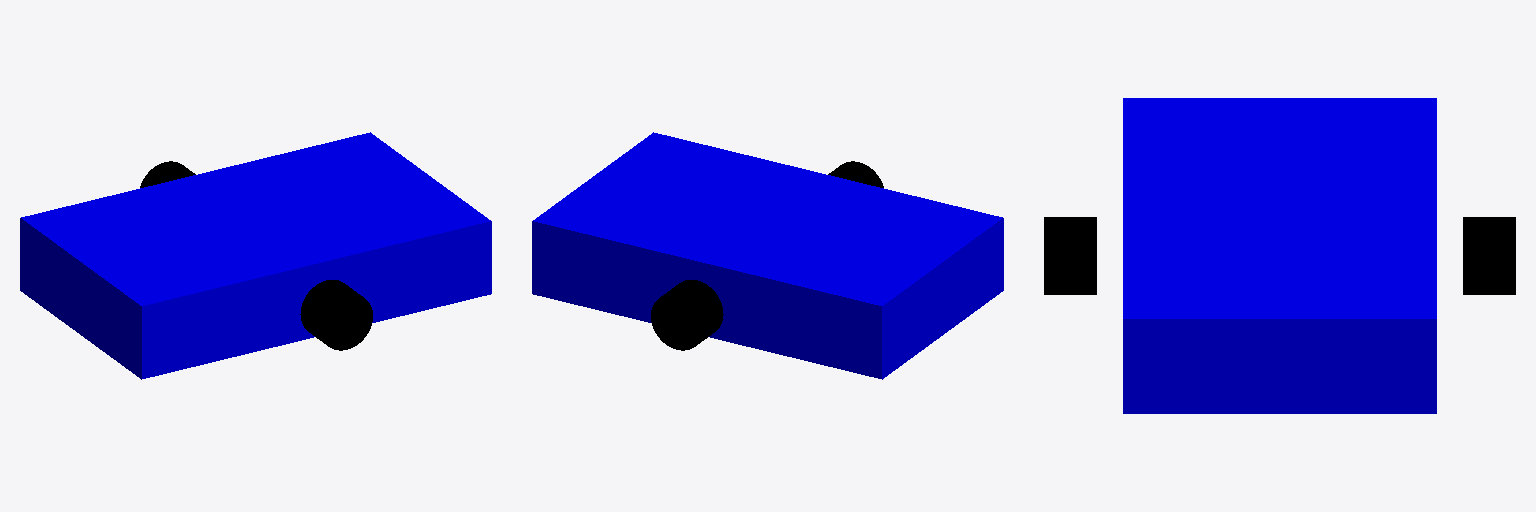
The robot description file, URDF, robot "manual_joint_test":
<?xml version="1.0"?>
<robot name="manual_joint_test">
  
  <link name="base_link">
    <inertial>
      <mass value="10.0"/>
      <inertia ixx="1.0" ixy="0.0" ixz="0.0" iyy="1.0" iyz="0.0" izz="1.0"/>
    </inertial>
    <visual>
      <geometry>
        <box size="0.5 0.3 0.1"/>
      </geometry>
      <material name="blue">
        <color rgba="0 0 1 1"/>
      </material>
    </visual>
    <collision>
      <geometry>
        <box size="0.5 0.3 0.1"/>
      </geometry>
    </collision>
  </link>

  <link name="left_wheel">
    <inertial>
      <mass value="1.0"/>
      <inertia ixx="0.1" ixy="0.0" ixz="0.0" iyy="0.1" iyz="0.0" izz="0.1"/>
    </inertial>
    <visual>
      <geometry>
        <cylinder radius="0.0375" length="0.05"/>
      </geometry>
      <material name="black">
        <color rgba="0 0 0 1"/>
      </material>
    </visual>
    <collision>
      <geometry>
        <cylinder radius="0.0375" length="0.05"/>
      </geometry>
    </collision>
  </link>

  <link name="right_wheel">
    <inertial>
      <mass value="1.0"/>
      <inertia ixx="0.1" ixy="0.0" ixz="0.0" iyy="0.1" iyz="0.0" izz="0.1"/>
    </inertial>
    <visual>
      <geometry>
        <cylinder radius="0.0375" length="0.05"/>
      </geometry>
      <material name="black">
        <color rgba="0 0 0 1"/>
      </material>
    </visual>
    <collision>
      <geometry>
        <cylinder radius="0.0375" length="0.05"/>
      </geometry>
    </collision>
  </link>

  <joint name="left_wheel_joint" type="continuous">
    <parent link="base_link"/>
    <child link="left_wheel"/>
    <origin xyz="0 0.2 0" rpy="1.5708 0 0"/>
    <axis xyz="0 1 0"/>
    <limit effort="1000" velocity="100"/>
    <dynamics friction="0.001" damping="0.1"/>
  </joint>

  <joint name="right_wheel_joint" type="continuous">
    <parent link="base_link"/>
    <child link="right_wheel"/>
    <origin xyz="0 -0.2 0" rpy="1.5708 0 0"/>
    <axis xyz="0 1 0"/>
    <limit effort="1000" velocity="100"/>
    <dynamics friction="0.001" damping="0.1"/>
  </joint>

  <!-- Joint Velocity Controller Test -->
  <gazebo>
    <plugin filename="gz-sim-joint-controller-system" name="gz::sim::systems::JointController">
      <joint_name>left_wheel_joint</joint_name>
      <topic>left_wheel_cmd</topic>
      <initial_velocity>5.0</initial_velocity>
    </plugin>
  </gazebo>

  <gazebo>
    <plugin filename="gz-sim-joint-controller-system" name="gz::sim::systems::JointController">
      <joint_name>right_wheel_joint</joint_name>
      <topic>right_wheel_cmd</topic>
      <initial_velocity>5.0</initial_velocity>
    </plugin>
  </gazebo>

  <gazebo reference="base_link">
    <static>false</static>
  </gazebo>

  <gazebo reference="left_wheel">
    <mu1>100.0</mu1>
    <mu2>100.0</mu2>
    <static>false</static>
  </gazebo>

  <gazebo reference="right_wheel">
    <mu1>100.0</mu1>
    <mu2>100.0</mu2>
    <static>false</static>
  </gazebo>

</robot>

--- What the picture shows (computed from the rendered views, not written in the file) ---
The picture shows the robot from 3 angles, left to right: view 1: azimuth 30°, elevation 25°; view 2: azimuth 150°, elevation 25°; view 3: azimuth 270°, elevation 25°; orthographic projection.
Robot: manual_joint_test — 3 links, 2 joints (2 continuous); root link base_link; default pose: all joints at 0.
Links seen in each view (by area): view 1: base_link, right_wheel, left_wheel; view 2: base_link, left_wheel, right_wheel; view 3: base_link, left_wheel, right_wheel.
Link boxes in pixels (left/top/right/bottom): base_link: left=20, top=132, right=491, bottom=379; right_wheel: left=300, top=280, right=372, bottom=350; left_wheel: left=140, top=161, right=195, bottom=187; base_link: left=532, top=132, right=1003, bottom=379; left_wheel: left=651, top=280, right=723, bottom=350; right_wheel: left=828, top=161, right=883, bottom=187; base_link: left=1123, top=98, right=1436, bottom=413; left_wheel: left=1463, top=217, right=1515, bottom=294; right_wheel: left=1044, top=217, right=1096, bottom=294.
Bounding box of the posed robot: 0.5 × 0.45 × 0.1 m (x, y, z).
Geometry: primitives only (box / cylinder / sphere), no mesh files.